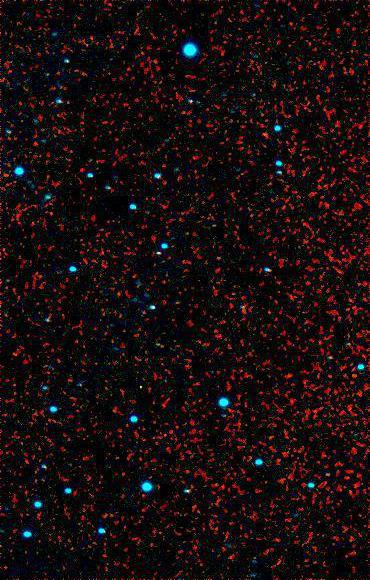star: (249, 120, 279, 150)
